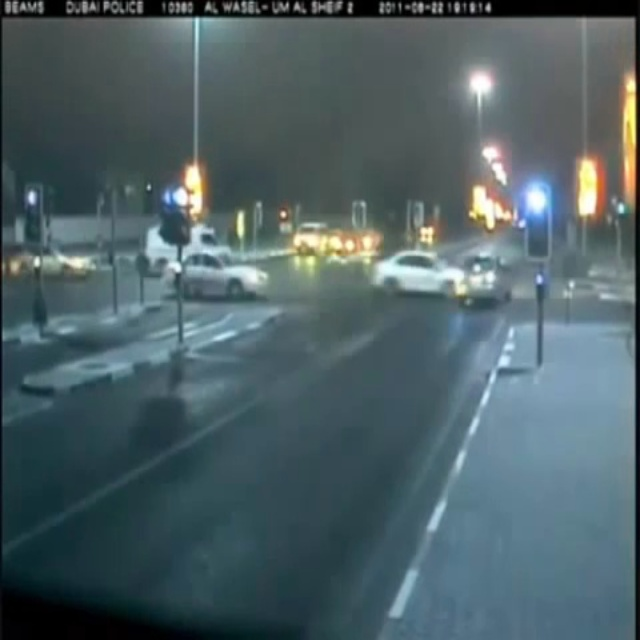acc: (361, 240, 515, 314)
